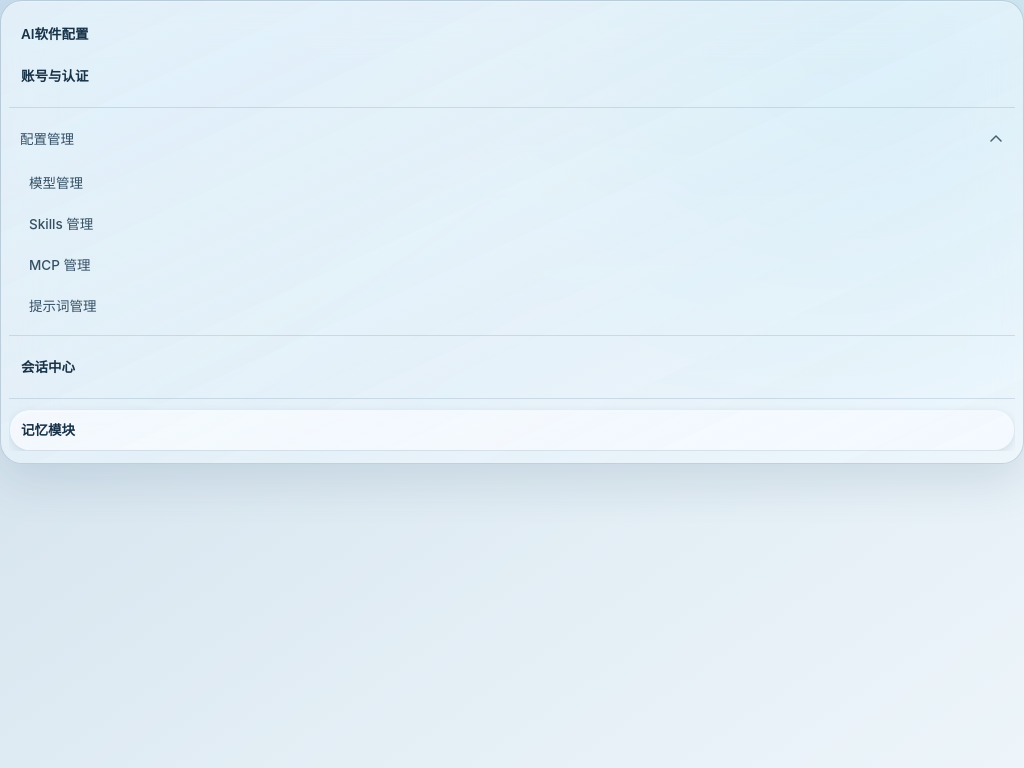
SideNavigation › keeps one memory lens after collapsing then expanding configuration
Expected: the number of elements with test id "selection-lens" is 1, [10,410,1014,450]
Click the button "配置管理" at (47, 139), box [9,118,1015,160]
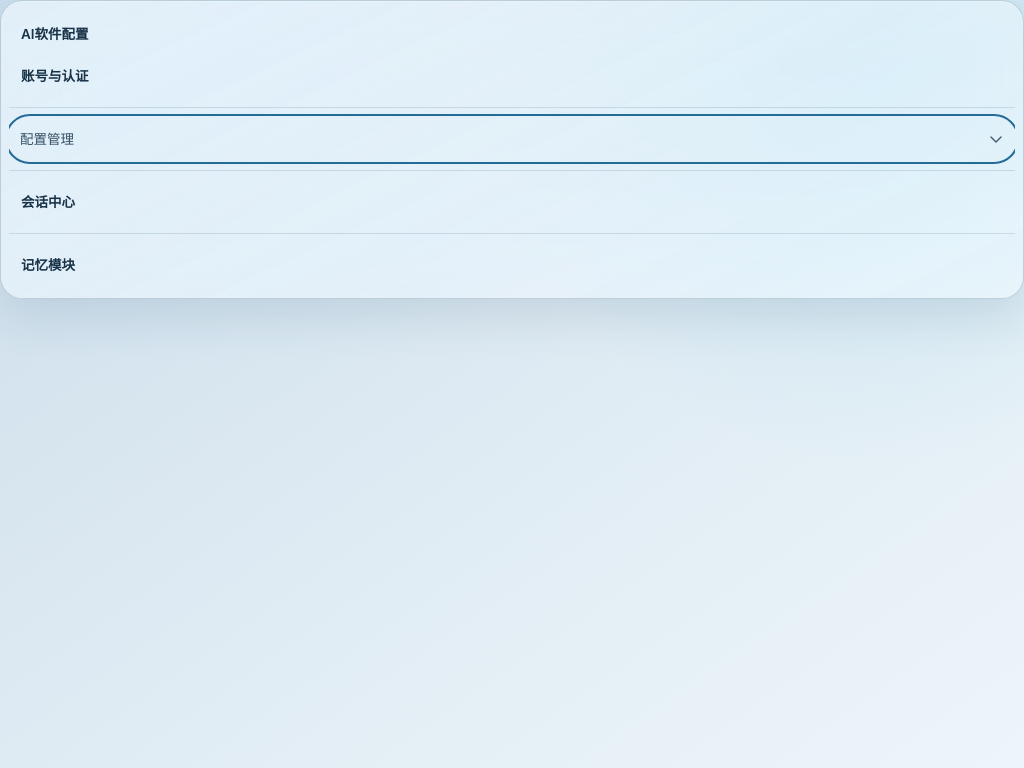
Now the button "配置管理" is collapsed
Click the button "配置管理" at (47, 139), box [9,118,1015,160]
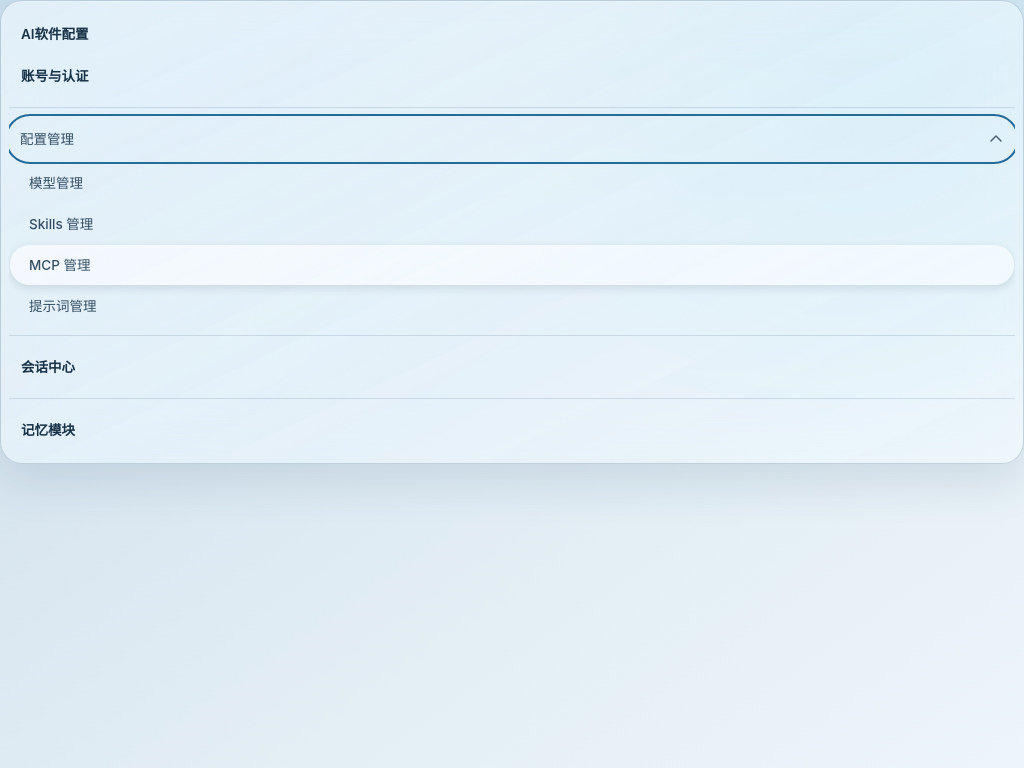
Now the button "配置管理" is expanded, box [9,118,1015,160]
Now the number of elements with test id "selection-lens" is 1, box [10,245,1014,285]
